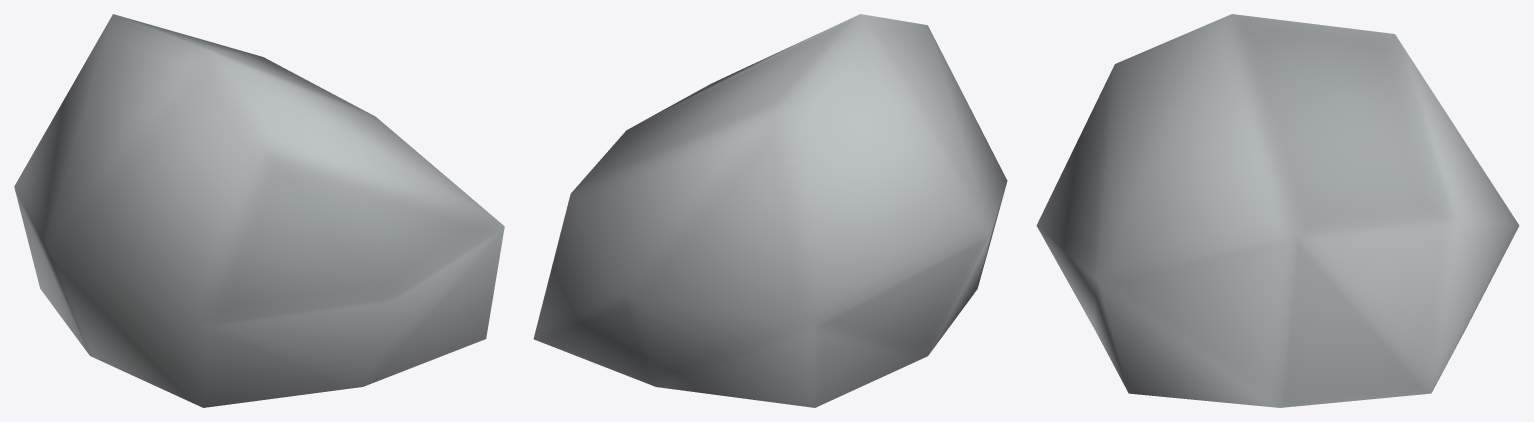
Rendered from Pedra_Redonda_3.fbx.
3 views of the same model, side by side, from view 1: azimuth 30°, elevation 25°; view 2: azimuth 150°, elevation 25°; view 3: azimuth 270°, elevation 25° (orthographic). The views are drawn at different scales.
Visible parts, largest first — view 1: Pedra_3; view 2: Pedra_3; view 3: Pedra_3.
Part boxes in pixels (box(x1,y1,x2,y2)): Pedra_3: box(14, 14, 504, 407); Pedra_3: box(533, 14, 1007, 407); Pedra_3: box(1036, 14, 1519, 407).
Size of the model in its own units: 118 by 84.74 by 133.
